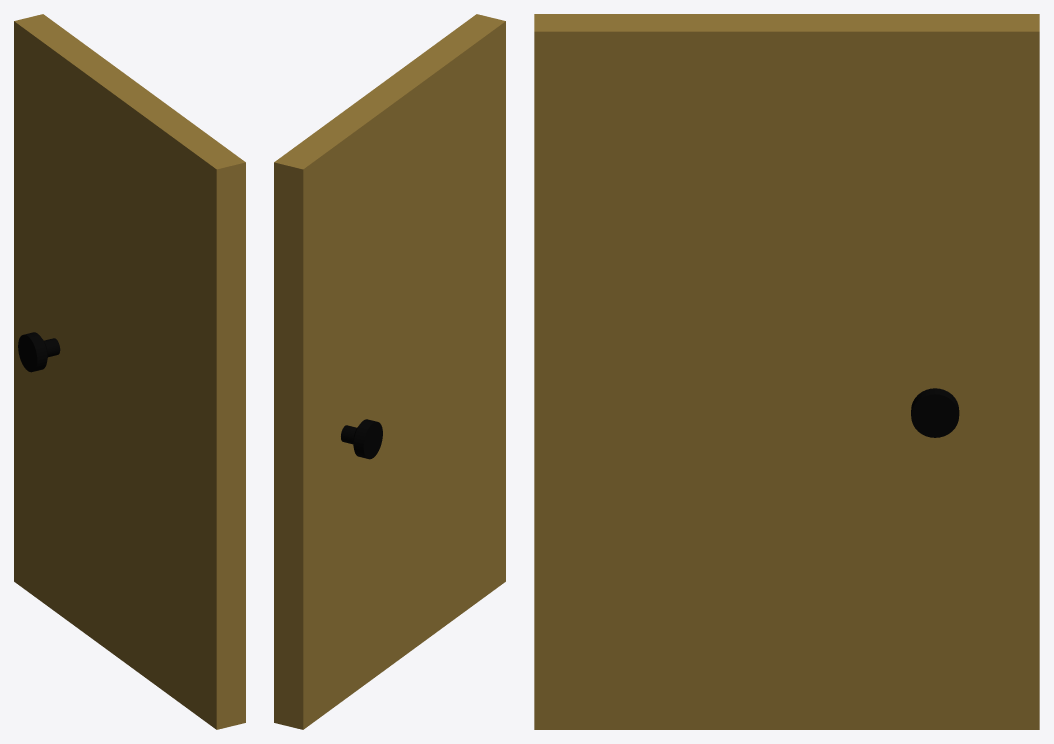
The model's file is Porta trencada.fbx.
3 renders of one model, left to right at view 1: azimuth 30°, elevation 25°; view 2: azimuth 150°, elevation 25°; view 3: azimuth 270°, elevation 25°, orthographic. The views are drawn at different scales.
Visible parts, largest first — view 1: Cube.066, Cube.067, Cube.069, Cube.070, Cube.068, Cube.064, Cube.065, Cube.071, Cube.072; view 2: Cube.067, Cube.066, Cube.068, Cube.065, Cube.070, Cube.064, Cube.069, Cube.071, Cube.072; view 3: Cube.066, Cube.067, Cube.068, Cube.070, Cube.069, Cube.064, Cube.065, Cube.071, Cube.063.
Boxes of the visible parts, left/top/right/bottom form: Cube.066: left=80, top=222, right=245, bottom=729; Cube.067: left=14, top=459, right=160, bottom=688; Cube.069: left=162, top=125, right=245, bottom=425; Cube.070: left=100, top=212, right=245, bottom=604; Cube.068: left=14, top=14, right=123, bottom=258; Cube.064: left=54, top=43, right=194, bottom=298; Cube.065: left=14, top=331, right=120, bottom=463; Cube.071: left=14, top=231, right=100, bottom=347; Cube.072: left=18, top=332, right=60, bottom=372; Cube.067: left=274, top=452, right=450, bottom=729; Cube.066: left=369, top=244, right=505, bottom=621; Cube.068: left=274, top=133, right=412, bottom=407; Cube.065: left=274, top=369, right=409, bottom=611; Cube.070: left=389, top=199, right=505, bottom=455; Cube.064: left=314, top=51, right=457, bottom=230; Cube.069: left=426, top=14, right=505, bottom=276; Cube.071: left=274, top=283, right=389, bottom=479; Cube.072: left=341, top=419, right=382, bottom=459; Cube.066: left=534, top=197, right=875, bottom=729; Cube.067: left=668, top=479, right=1039, bottom=729; Cube.068: left=770, top=14, right=1039, bottom=326; Cube.070: left=534, top=168, right=819, bottom=570; Cube.069: left=534, top=14, right=672, bottom=353; Cube.064: left=656, top=14, right=940, bottom=243; Cube.065: left=772, top=363, right=1039, bottom=578; Cube.071: left=820, top=230, right=1039, bottom=422; Cube.063: left=911, top=388, right=959, bottom=437.
Bounding box in the file's own units: 1.23 × 7.7 × 5.05.
